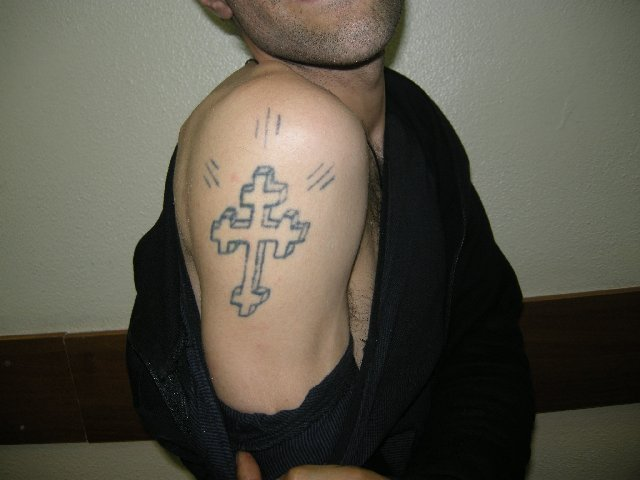tatu9_krest: (205, 151, 307, 329)
